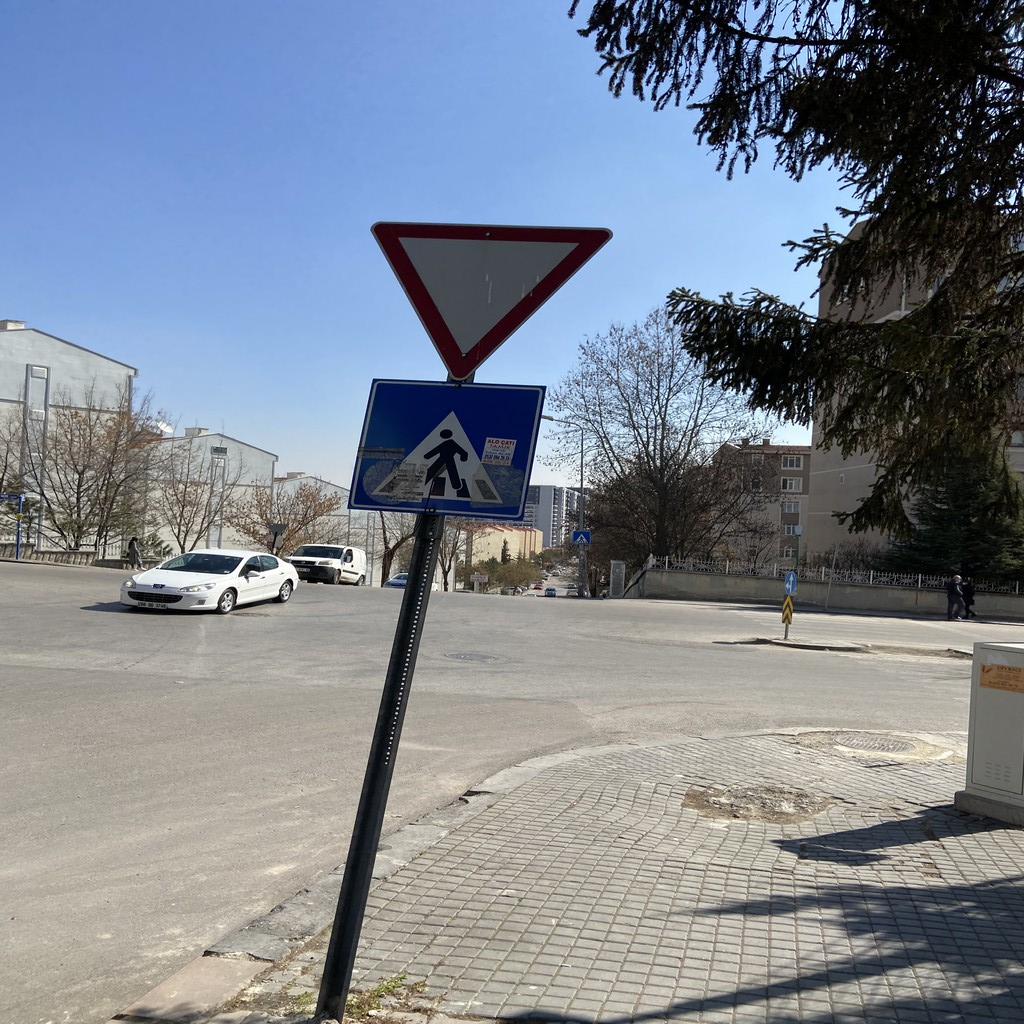Yaya Gecidi: (361, 380, 536, 516)
Yol Ver: (379, 219, 612, 374)
